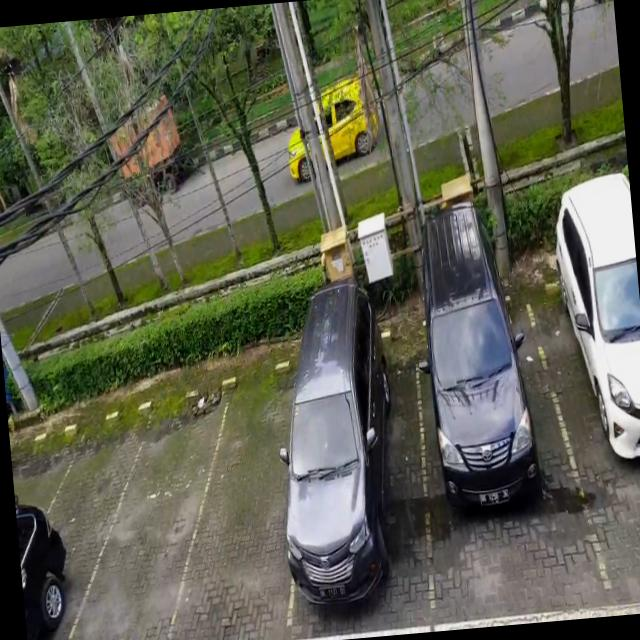car: (274, 320, 442, 628), (404, 277, 568, 577), (541, 238, 640, 552)
free: (175, 365, 297, 640), (98, 386, 220, 640), (7, 410, 119, 640)
